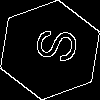S: (25, 25, 79, 65)
